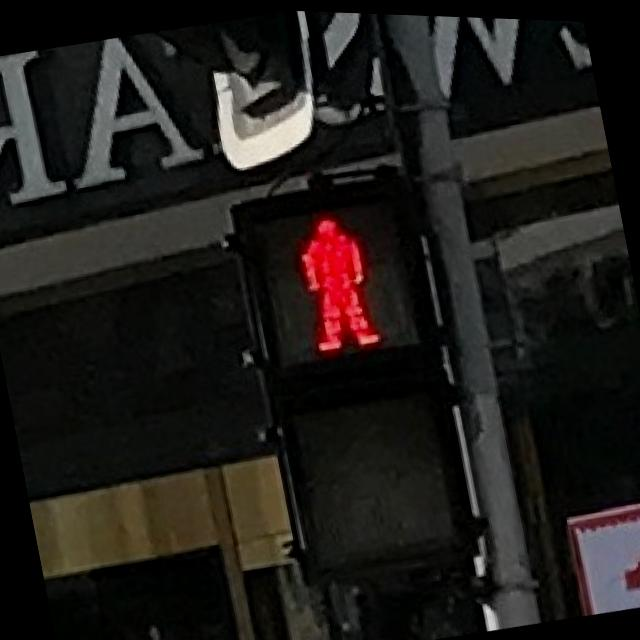red_light: (267, 180, 423, 368)
